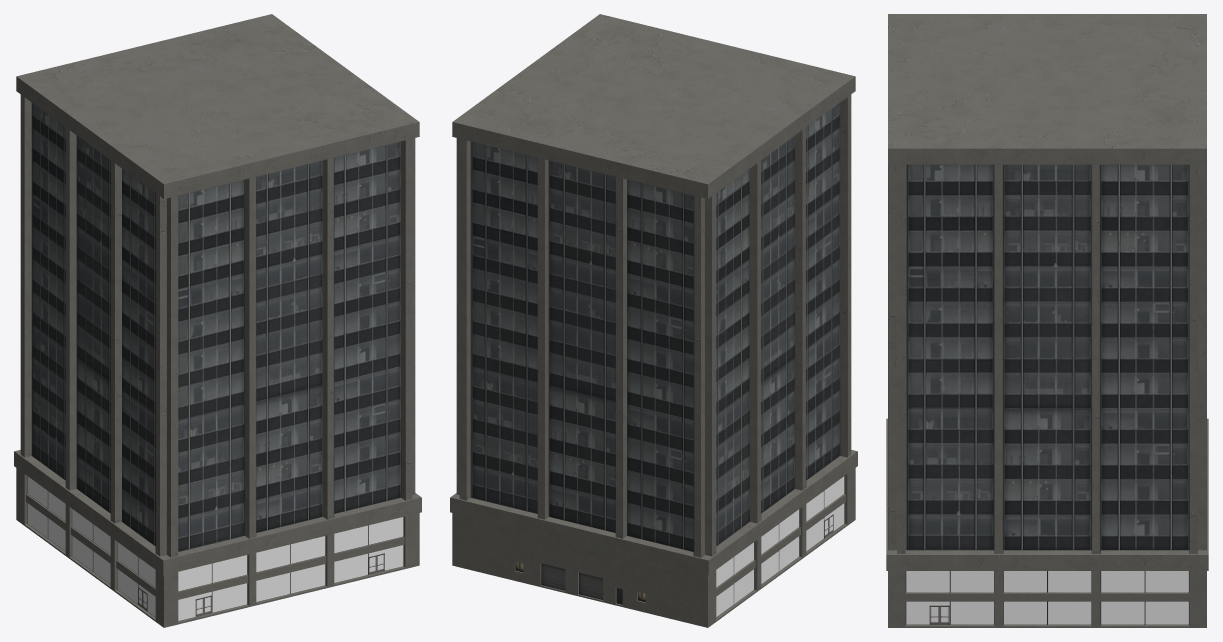
File: office_building_4.fbx
3 views of the same model, side by side, from view 1: azimuth 30°, elevation 25°; view 2: azimuth 150°, elevation 25°; view 3: azimuth 270°, elevation 25° (orthographic). The views are drawn at different scales.
Parts seen in each view (by area): view 1: office_building_4; view 2: office_building_4; view 3: office_building_4.
Boxes of the visible parts, x1,y1,x2,y2 form: office_building_4: (14,14,421,627); office_building_4: (450,14,857,627); office_building_4: (886,14,1208,627).
Bounding box in the file's own units: 3640 × 5970 × 3640.
